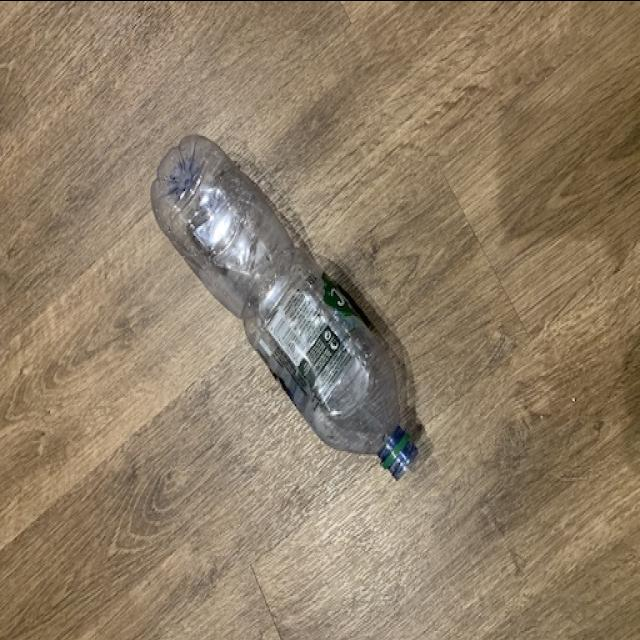litter: (149, 135, 425, 485)
